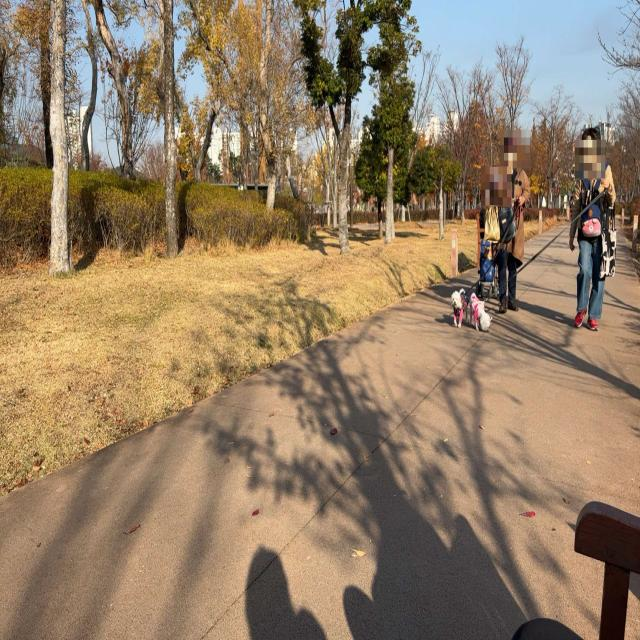Dog: (483, 244, 492, 260)
Leashed_Dog: (468, 219, 587, 334), (451, 231, 503, 329)
